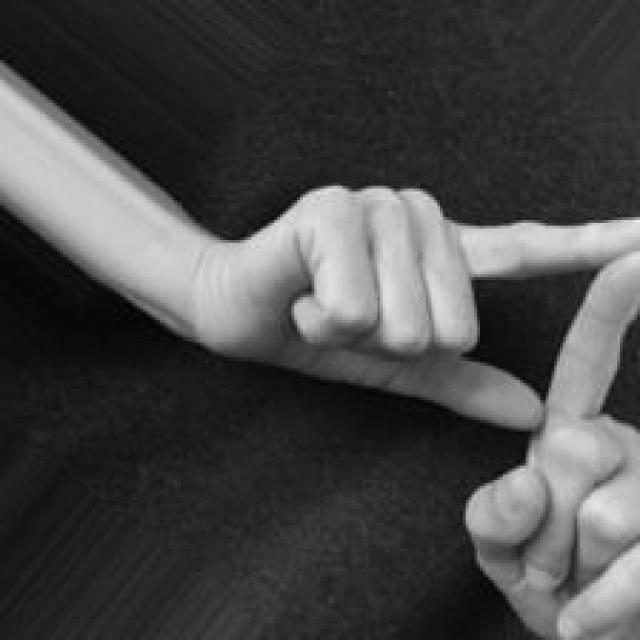D: (243, 145, 640, 640)
